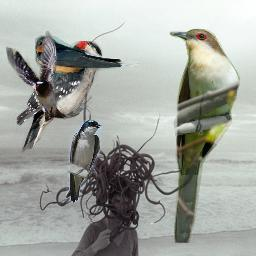Cuckoo: (169, 28, 242, 243)
Swallow: (6, 31, 68, 122), (33, 34, 140, 77), (66, 120, 102, 203)
Woodpecker: (16, 41, 114, 154)
